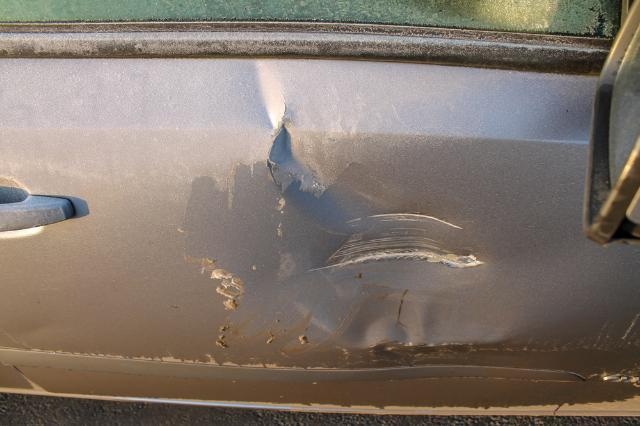dent: (239, 60, 518, 348)
scratch: (315, 207, 490, 274)
